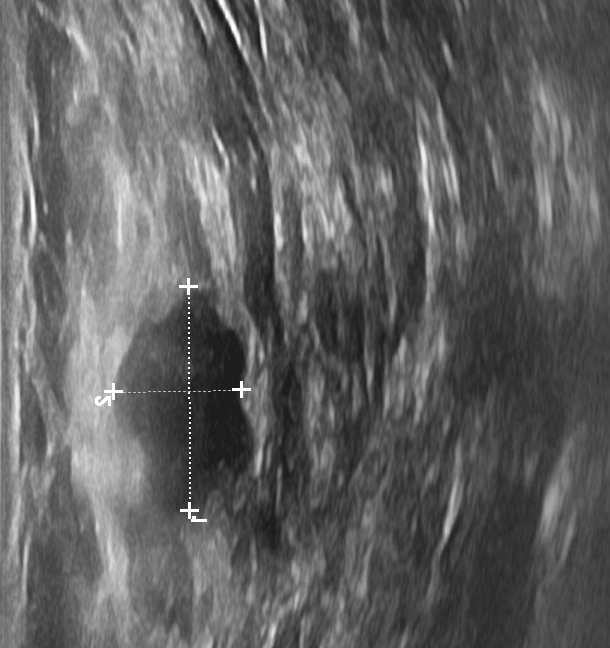Benign: (115, 308, 257, 492)
